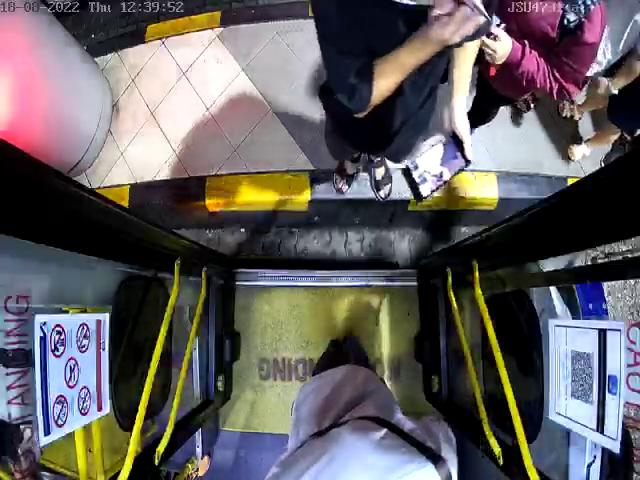open: (0, 0, 640, 167)
